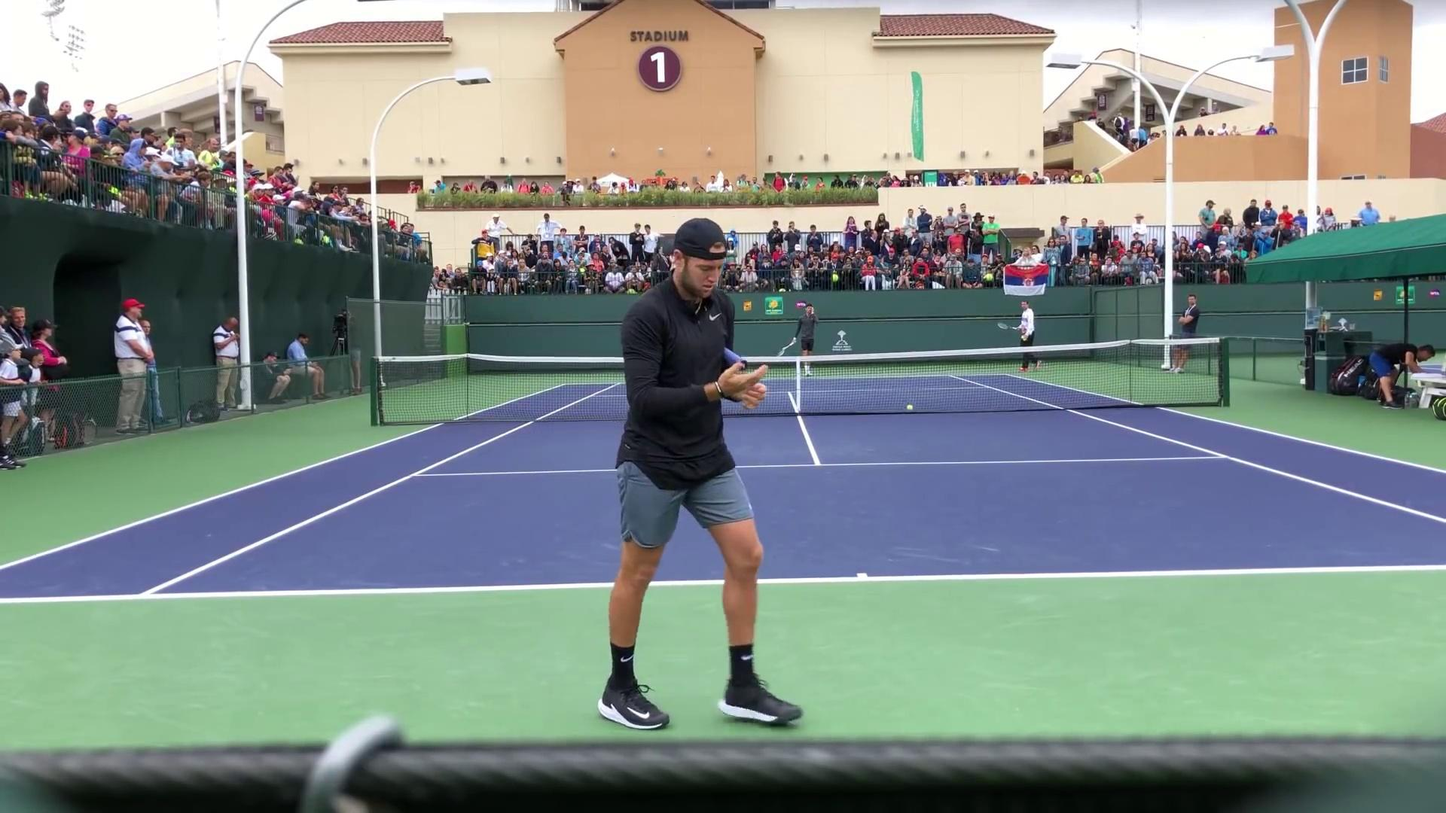ball: (904, 403, 915, 415)
